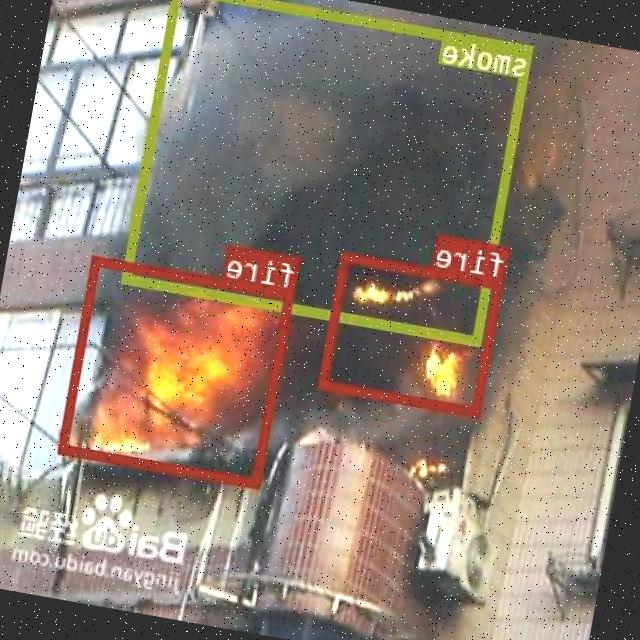fire: (59, 254, 296, 488), (320, 252, 505, 416)
smoke: (123, 0, 534, 344)
